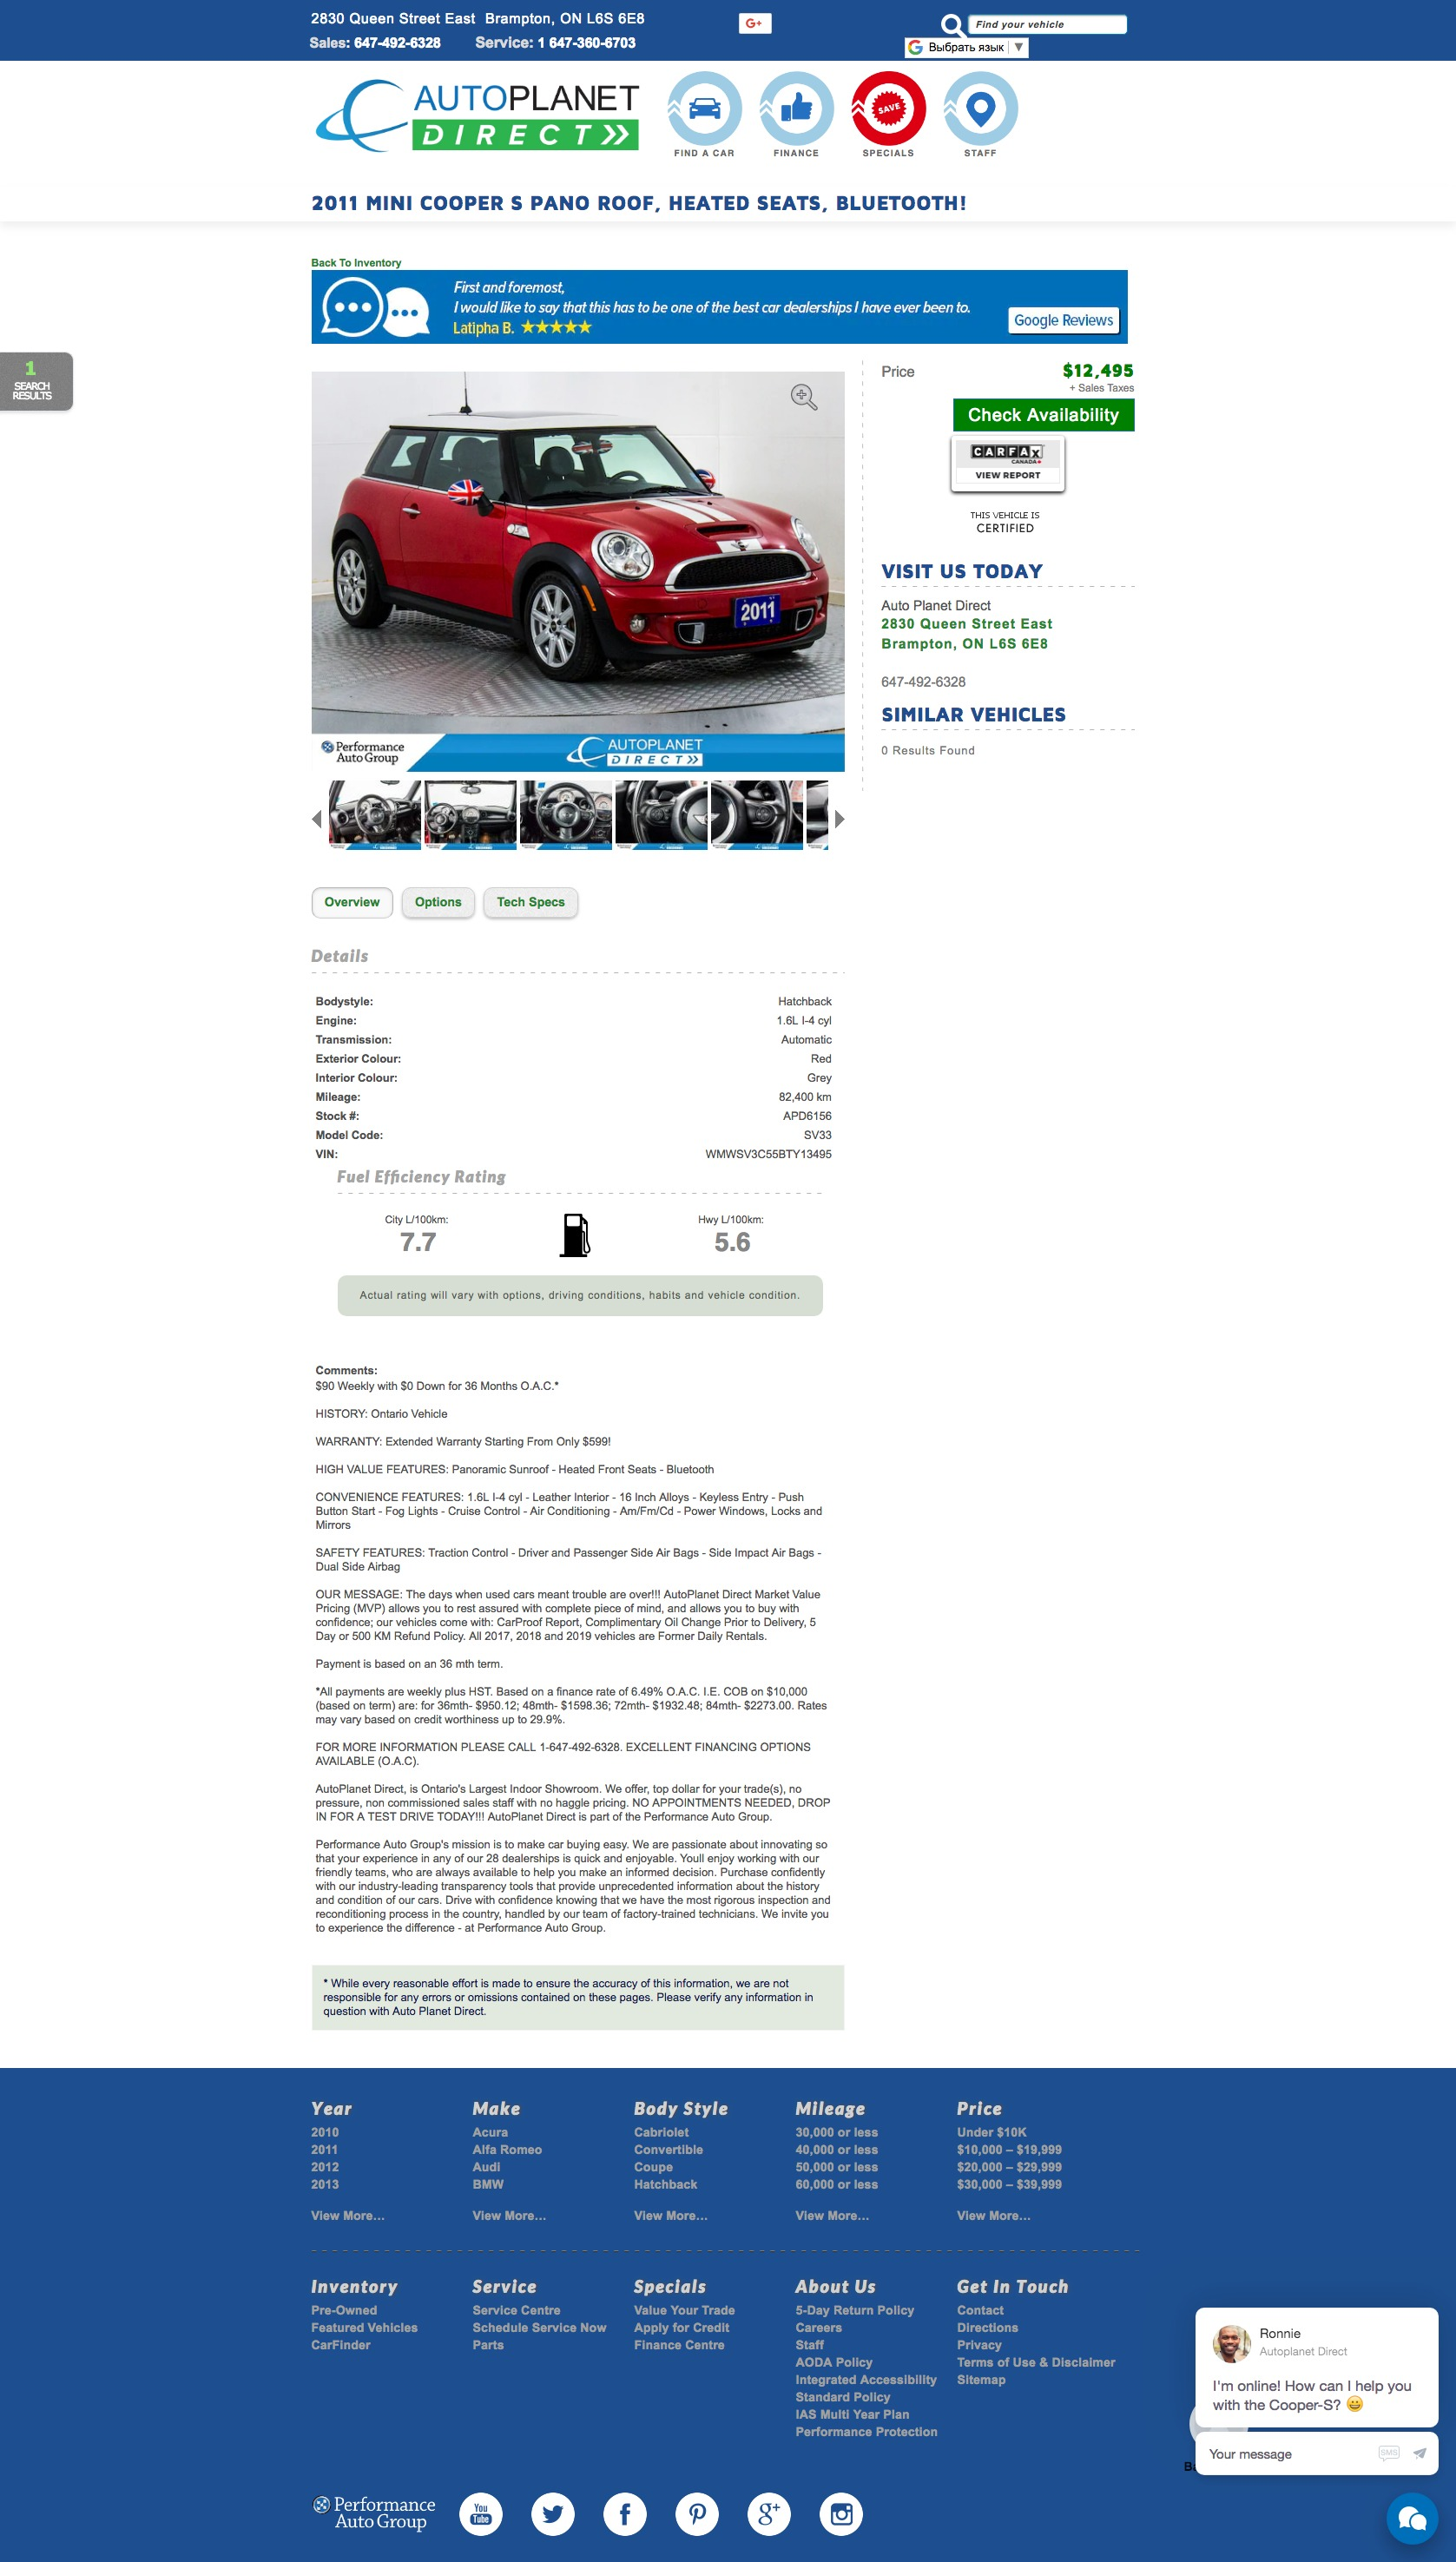car: (833, 811, 845, 829)
